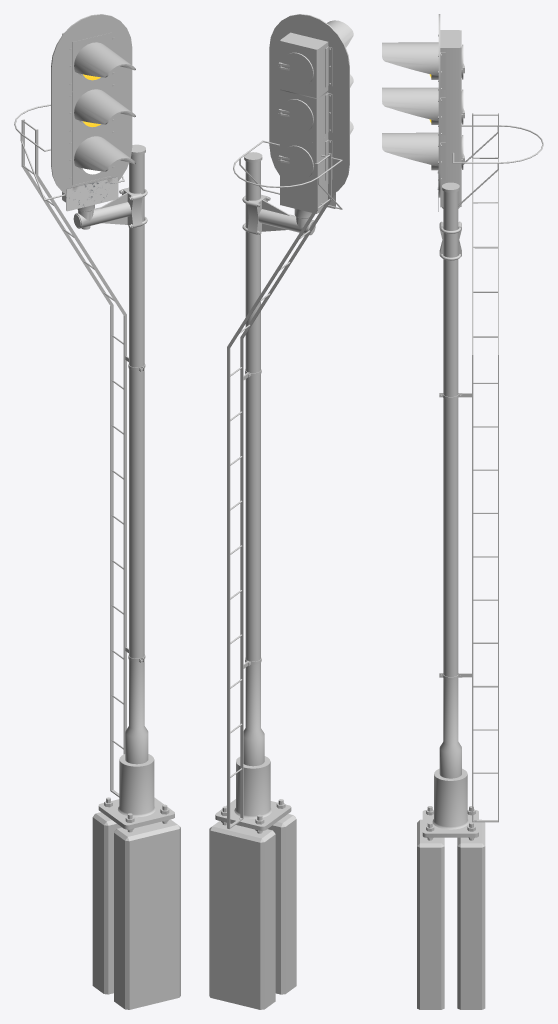
File: PL3AspectDistant.fbx
3 views of the same model, side by side, from view 1: azimuth 30°, elevation 25°; view 2: azimuth 150°, elevation 25°; view 3: azimuth 270°, elevation 25° (orthographic). The views are drawn at different scales.
Visible parts, largest first — view 1: PL2AspectDistant, LocationSign; view 2: PL2AspectDistant; view 3: PL2AspectDistant.
Part boxes in pixels (x1,y1,x2,y2): PL2AspectDistant: (14, 14, 180, 1009); LocationSign: (66, 177, 118, 211); PL2AspectDistant: (209, 14, 353, 1009); PL2AspectDistant: (382, 14, 543, 1009).
Size of the model in its own units: 88.91 by 706 by 108.
